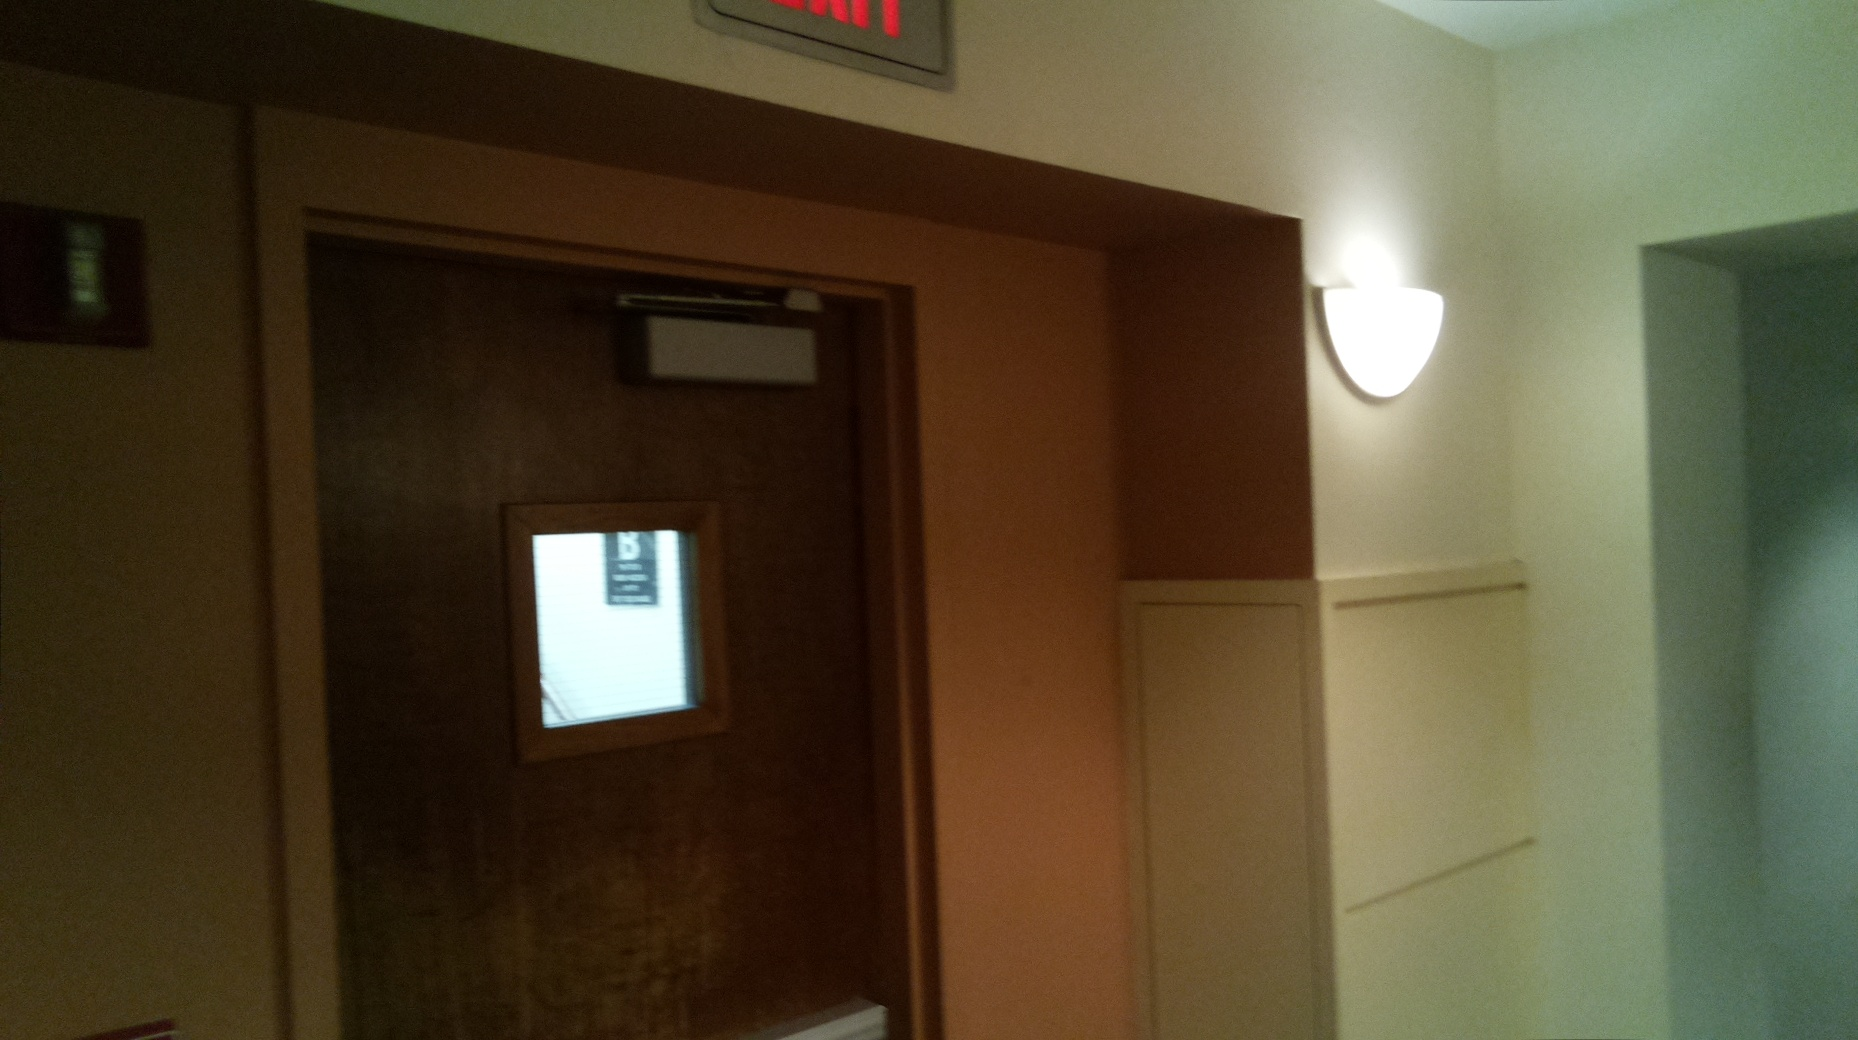exit sign: (684, 1, 966, 103)
